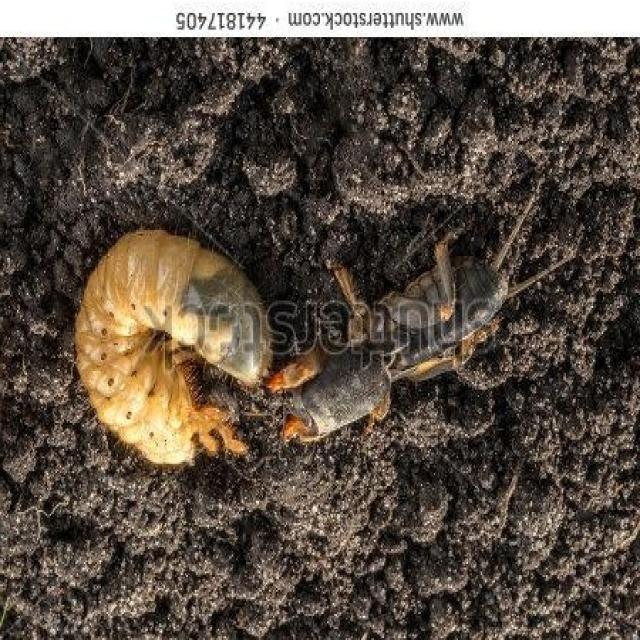grub: (69, 238, 266, 459)
